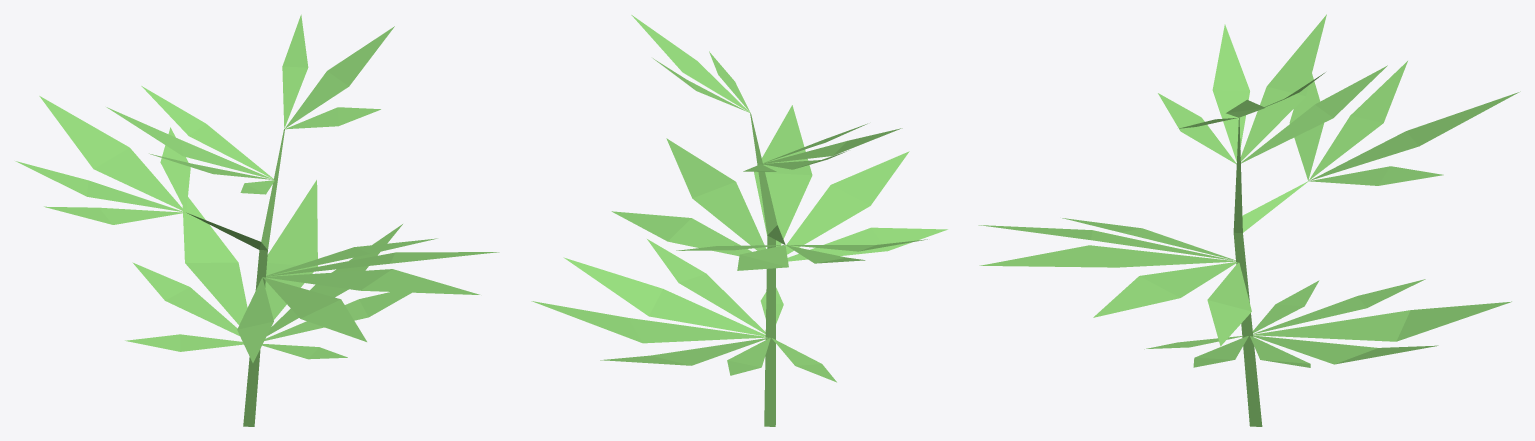
Rendered from Plant_i_OneS_06.fbx.
3 renders of one model, left to right at view 1: azimuth 30°, elevation 25°; view 2: azimuth 150°, elevation 25°; view 3: azimuth 270°, elevation 25°, orthographic. The views are drawn at different scales.
Parts seen in each view (by area): view 1: Plant_i_OneS_06; view 2: Plant_i_OneS_06; view 3: Plant_i_OneS_06.
Part boxes in pixels (box(x1,y1,x2,y2)): Plant_i_OneS_06: box(15, 14, 499, 426); Plant_i_OneS_06: box(531, 15, 947, 426); Plant_i_OneS_06: box(978, 14, 1520, 426).
Bounding box in the file's own units: 45.4 × 44.17 × 54.27.
